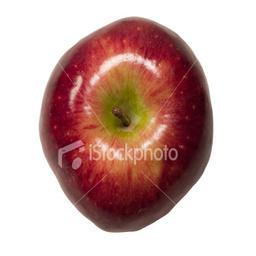apple: (40, 14, 214, 233)
